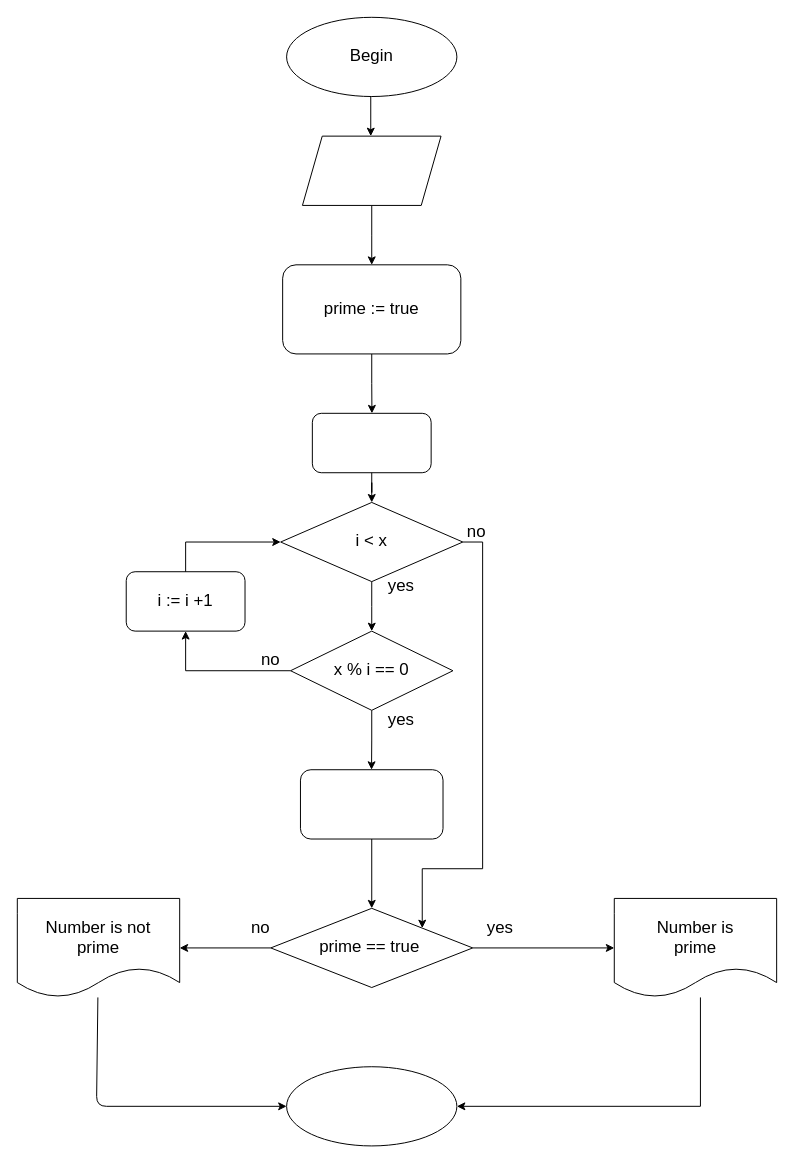
Image size: 794x1163. Some labels were removed from this diagram. The centre of each missing label's shape, as x and y in pixels:
"End" belongs at point 371,1106.
"Enter x" belongs at point 371,170.
"i := 2" belongs at point 371,442.
"prime := false" belongs at point 371,804.
